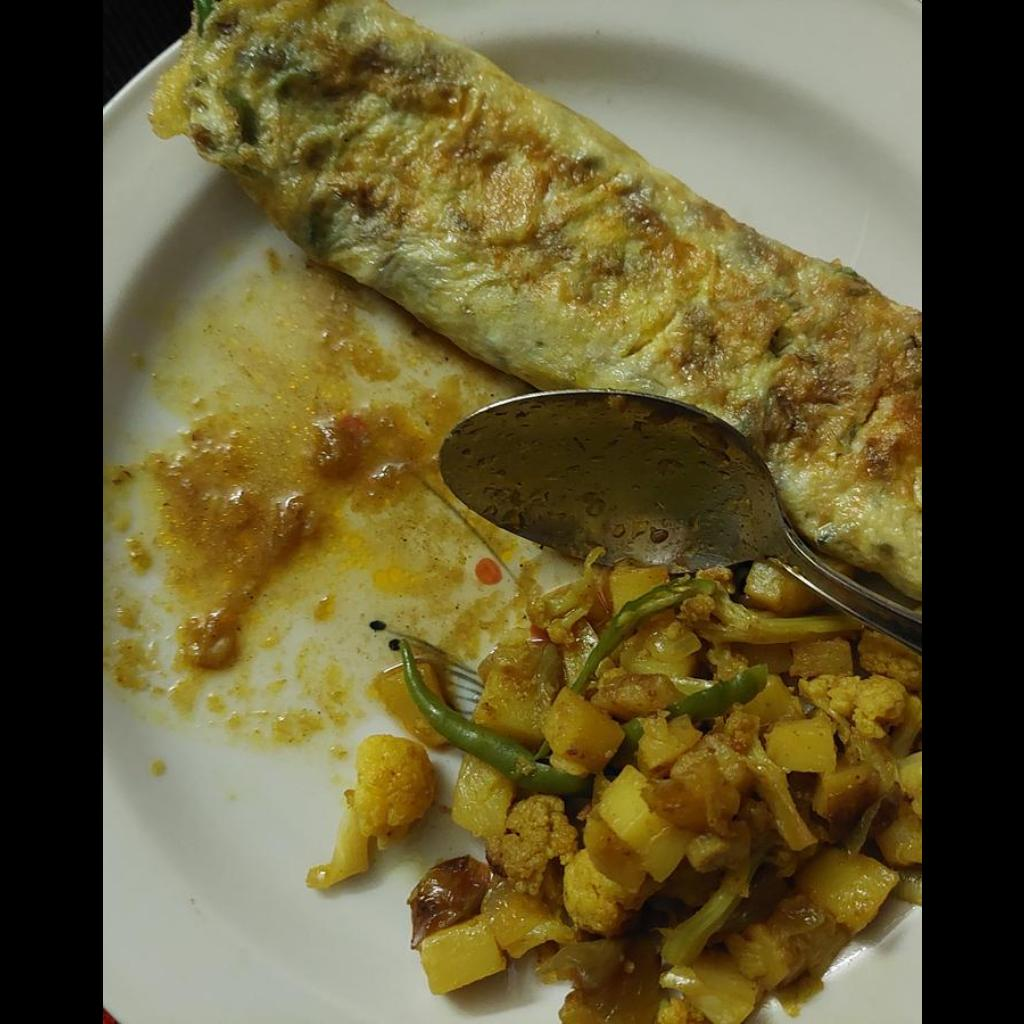egg-poached: (157, 5, 920, 591)
vaji: (376, 567, 920, 1022)
vegetable: (307, 560, 920, 1023)
